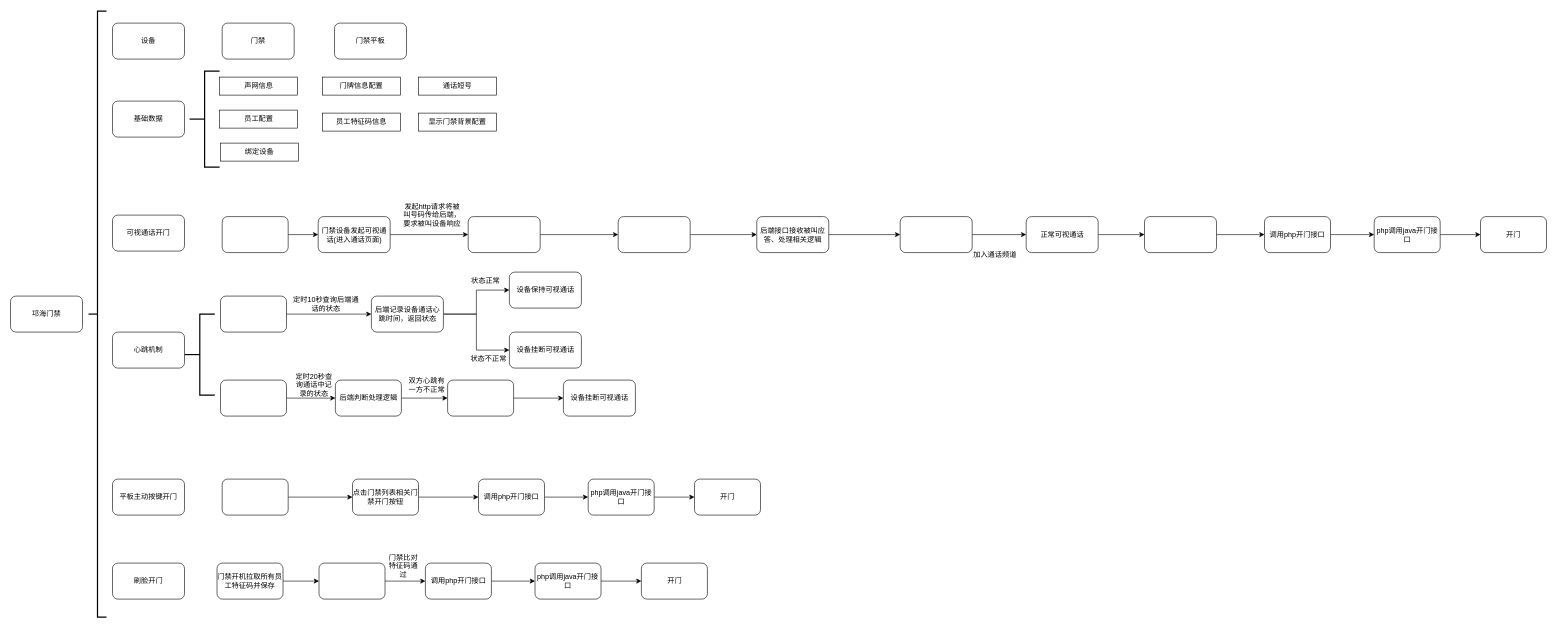
Image size: 1557x628. Some labels were removed from this diagram. Here are the shapes that lost their labels. From the top down, the centre of each, then its label:
[255,234]: 按键点击门铃
[504,234]: 后端处理相关逻辑
[654,234]: 被叫设备收到呼叫消息处理相关逻辑
[936,234]: 主叫设备收到应答消息
[1180,234]: 被叫设备上点击开门
[253,314]: 可视的设备
[253,398]: 后端平台
[480,398]: 给双方设备推送挂断信号
[255,496]: 平板开机拉取声网信息、门禁信息
[351,580]: 员工刷脸
